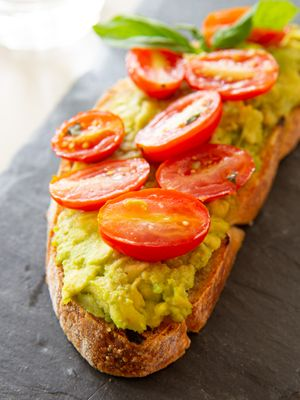taco: (135, 90, 223, 164)
